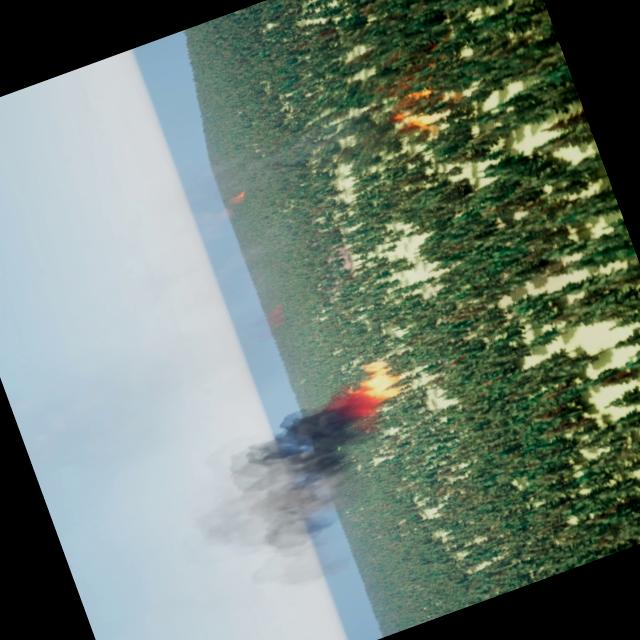fire: (378, 59, 457, 144), (344, 354, 409, 422)
smoke: (163, 383, 413, 620), (245, 295, 298, 340), (205, 192, 250, 224)
